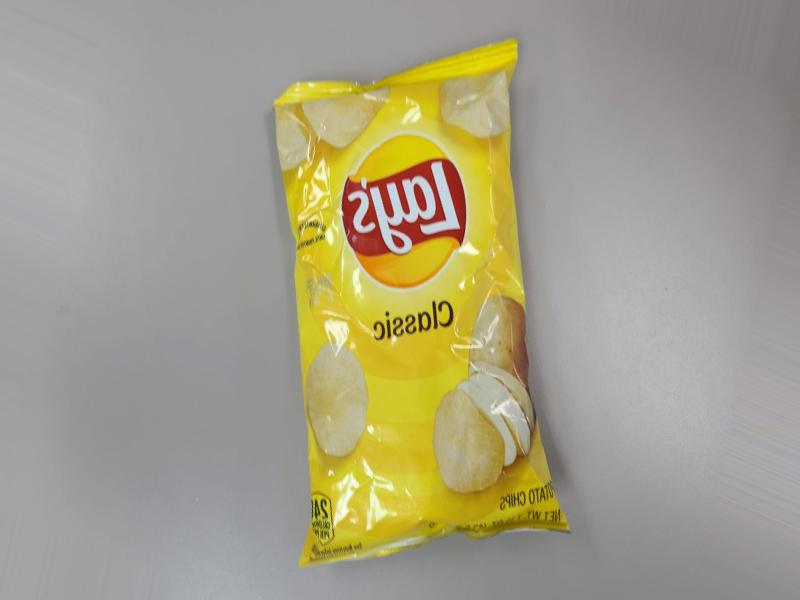lays: (300, 63, 617, 571)
